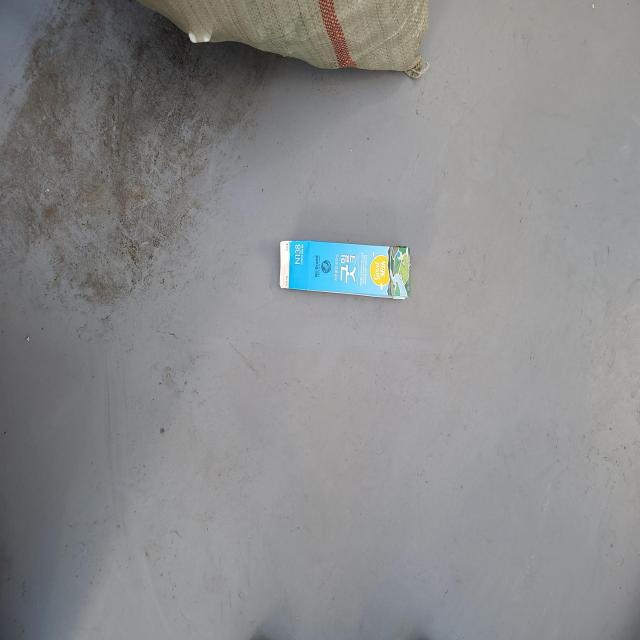paperpack: (279, 240, 411, 299)
